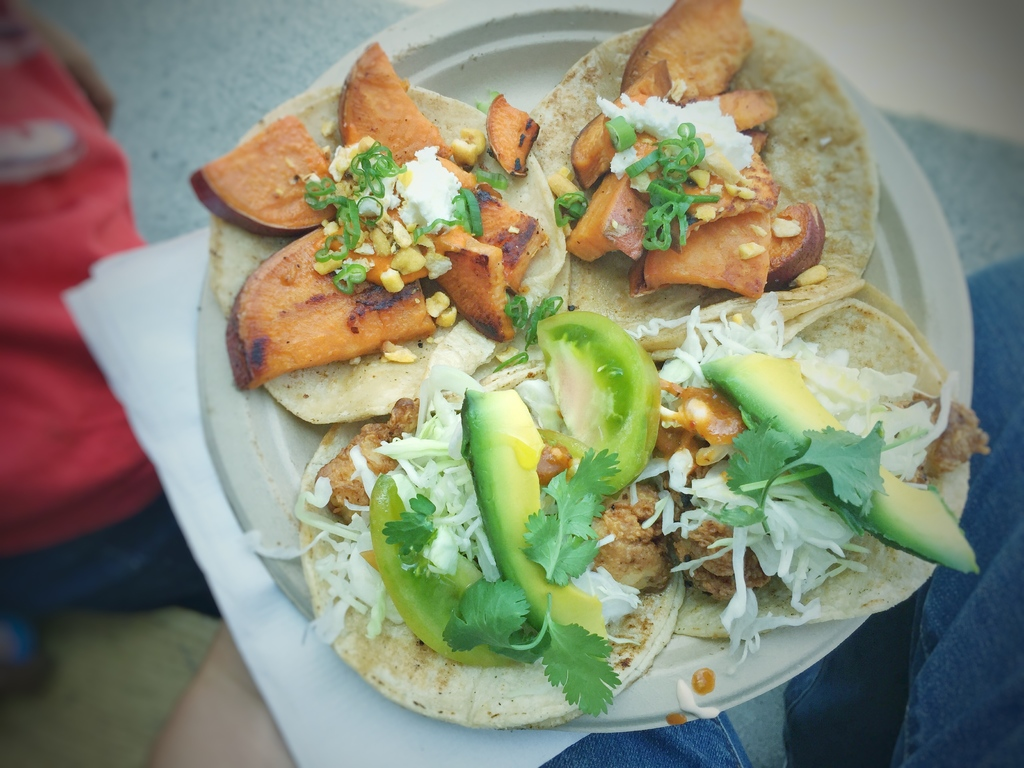taco: (292, 368, 694, 740), (200, 78, 584, 441), (218, 78, 568, 454), (653, 275, 998, 646), (505, 4, 895, 321), (505, 15, 884, 324)
